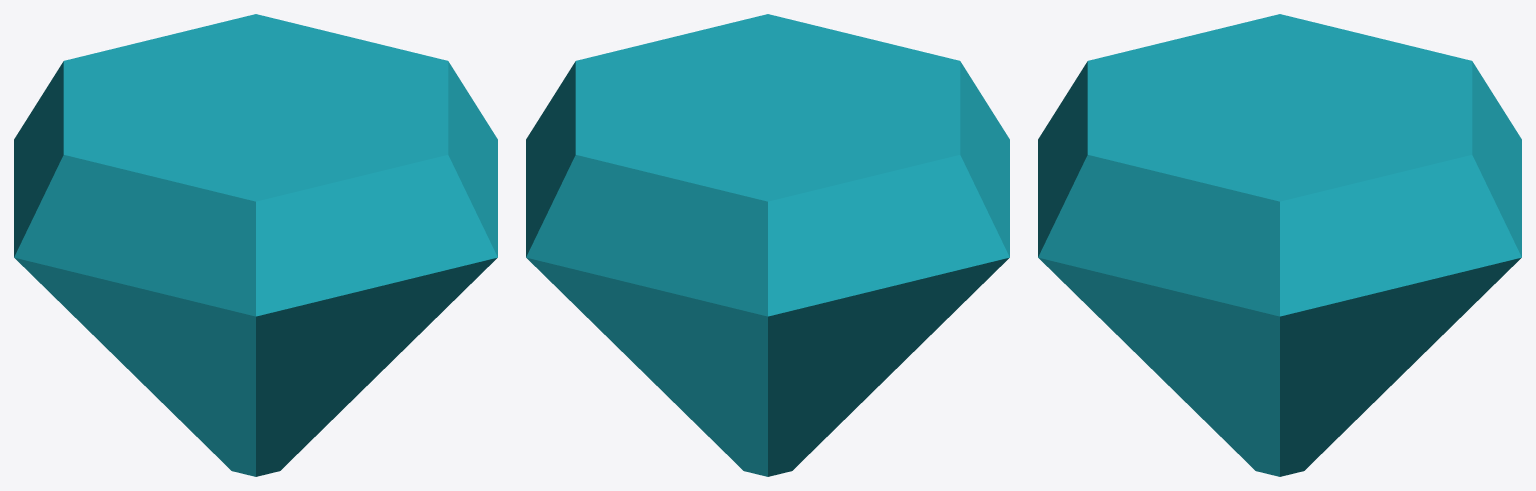
Rendered from SM_Diamond.fbx.
The picture shows the model from 3 angles, left to right: view 1: azimuth 30°, elevation 25°; view 2: azimuth 150°, elevation 25°; view 3: azimuth 270°, elevation 25°; orthographic projection.
Parts seen in each view (by area): view 1: Diamond; view 2: Diamond; view 3: Diamond.
Part boxes in pixels (x1=…): Diamond: x1=14, y1=14, x2=497, y2=476; Diamond: x1=526, y1=14, x2=1009, y2=476; Diamond: x1=1038, y1=14, x2=1521, y2=476.
Bounding box in the file's own units: 26.53 × 18.72 × 22.97.
